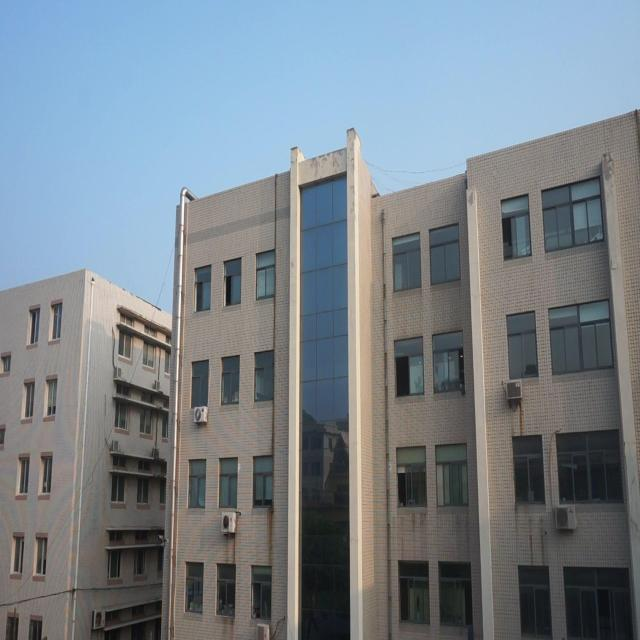drone: (154, 529, 172, 551)
